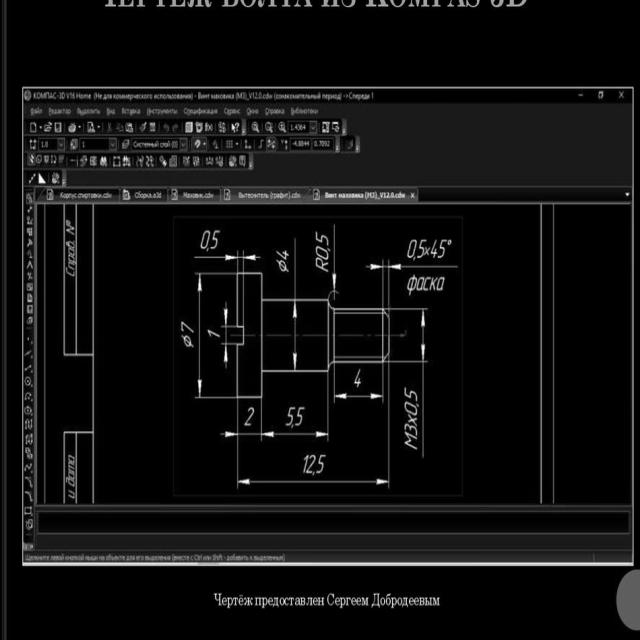marking_line: (222, 403, 427, 493), (389, 262, 428, 460), (194, 269, 238, 401), (222, 401, 331, 443), (387, 257, 460, 306), (259, 400, 332, 443), (388, 304, 430, 365), (332, 367, 388, 402), (216, 303, 237, 368), (193, 249, 239, 272), (364, 258, 385, 305), (218, 340, 236, 370), (291, 302, 299, 369), (330, 226, 337, 290), (242, 249, 261, 270), (221, 302, 233, 330)
numeric: (407, 239, 418, 261), (284, 406, 295, 428), (316, 452, 326, 474), (244, 405, 254, 427), (314, 232, 329, 246), (417, 239, 427, 260), (295, 405, 304, 427), (181, 321, 195, 335), (206, 326, 221, 339), (317, 246, 330, 261), (211, 230, 221, 249), (306, 453, 315, 474), (201, 230, 210, 250), (438, 239, 446, 261), (276, 248, 289, 261), (430, 239, 438, 260), (354, 368, 361, 389), (302, 453, 308, 474)
special_symbol: (181, 333, 194, 351), (275, 260, 288, 273)
